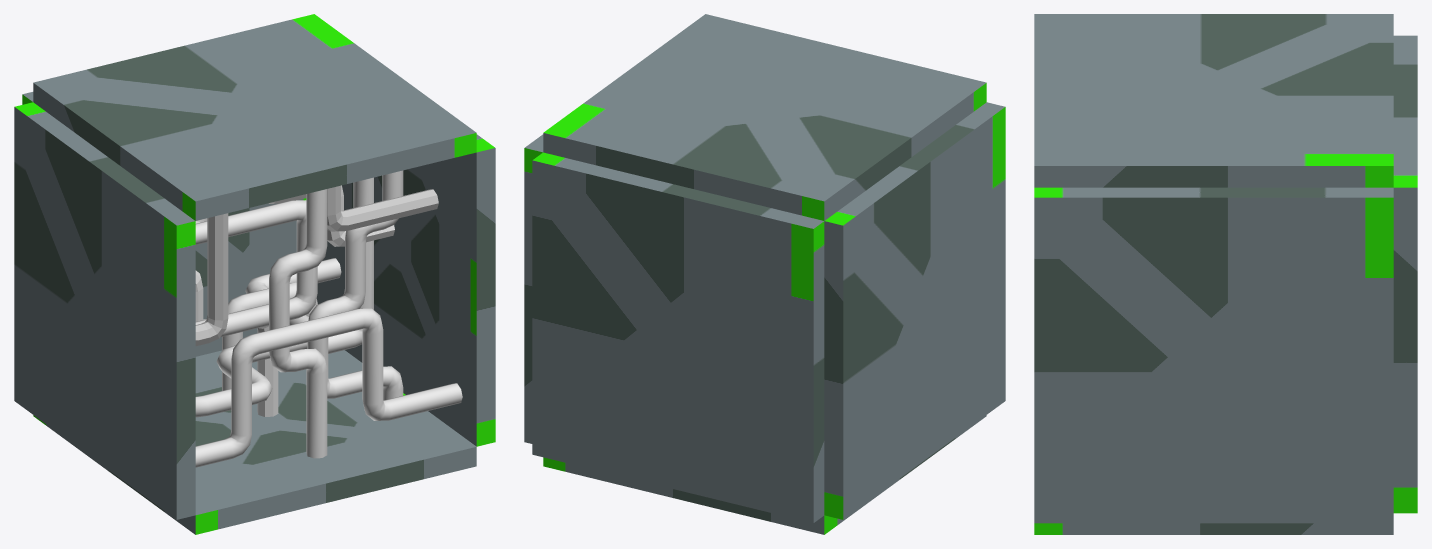
File: PipeBack01.fbx
3 views of the same model, side by side, from view 1: azimuth 30°, elevation 25°; view 2: azimuth 150°, elevation 25°; view 3: azimuth 270°, elevation 25° (orthographic). The views are drawn at different scales.
Parts seen in each view (by area): view 1: Left, Top, Rigth, Down, PipeH04, PipeV04, PipeH05, PipeV02, Back, PipeV03, PipeV05, PipeH3 (+1 smaller); view 2: Back, Left, Top, Down, Rigth; view 3: Rigth, Top, Back, Down.
Part boxes in pixels (x1,y1,x2,y2): Left: [14, 102, 195, 519]; Top: [33, 14, 476, 220]; Rigth: [316, 134, 495, 446]; Down: [33, 350, 476, 534]; PipeH04: [195, 308, 462, 467]; PipeV04: [269, 189, 327, 458]; PipeH05: [195, 185, 438, 346]; PipeV02: [307, 170, 403, 400]; Back: [22, 92, 306, 356]; PipeV03: [195, 200, 317, 337]; PipeV05: [222, 177, 373, 390]; PipeH3: [195, 258, 341, 417]; Back: [532, 152, 824, 523]; Left: [824, 102, 1005, 519]; Top: [543, 14, 986, 220]; Down: [543, 415, 986, 534]; Rigth: [524, 134, 543, 443]; Rigth: [1034, 187, 1393, 523]; Top: [1034, 14, 1393, 187]; Back: [1393, 35, 1417, 513]; Down: [1034, 523, 1393, 534].
Bounding box in the file's own units: 3.4 × 3.4 × 3.2.
